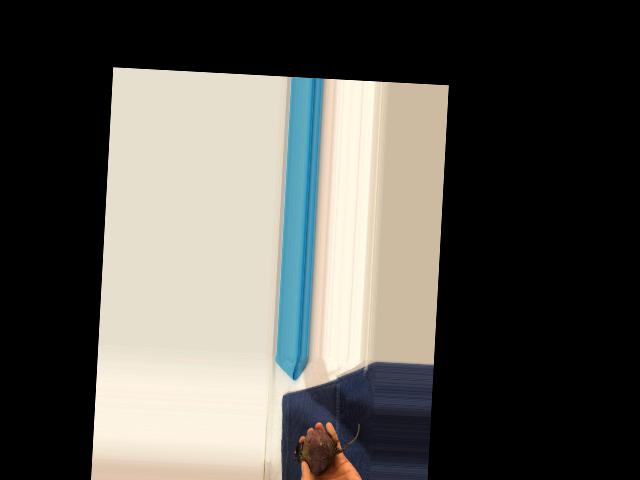beet: (293, 418, 360, 476)
